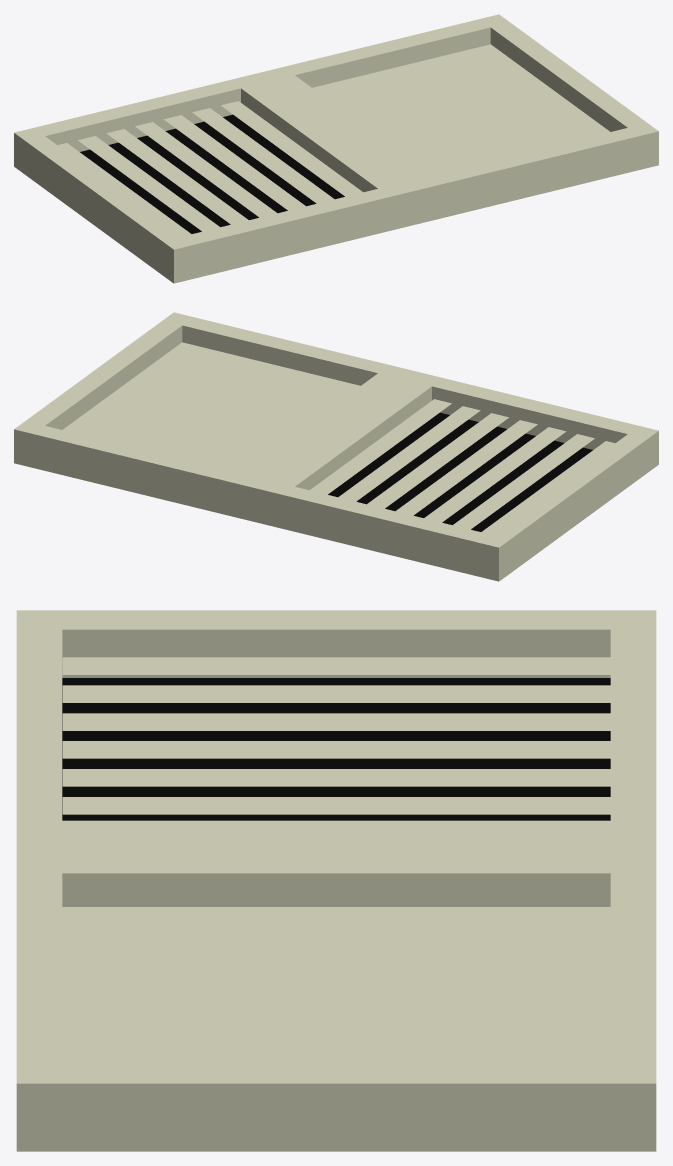
The model's file is Vents.fbx.
The picture shows the model from 3 angles, top to bottom: view 1: azimuth 30°, elevation 25°; view 2: azimuth 150°, elevation 25°; view 3: azimuth 270°, elevation 25°; orthographic projection. The views are drawn at different scales.
Visible parts, largest first — view 1: Box017; view 2: Box017; view 3: Box017.
Boxes of the visible parts, left/top/right/bottom form: Box017: left=14, top=14, right=658, bottom=283; Box017: left=14, top=312, right=658, bottom=581; Box017: left=16, top=610, right=656, bottom=1151.
Size of the model in its own units: 135 by 9.01 by 76.87.
